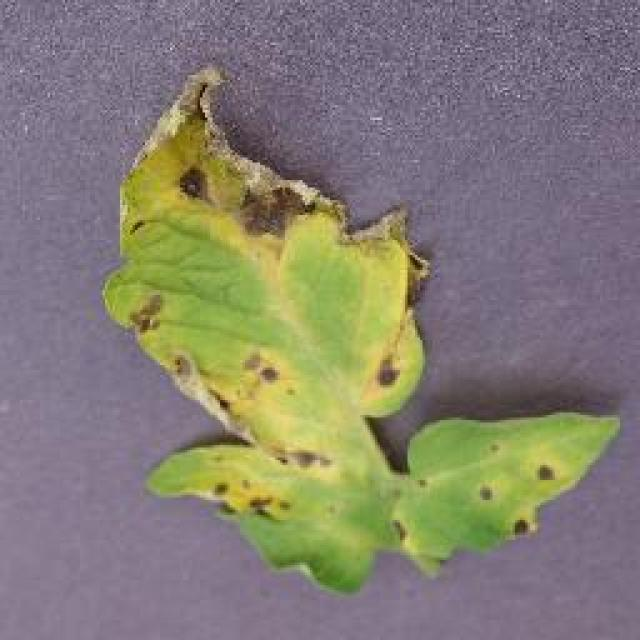Tomato___Septoria_leaf_spot: (102, 70, 618, 590)
